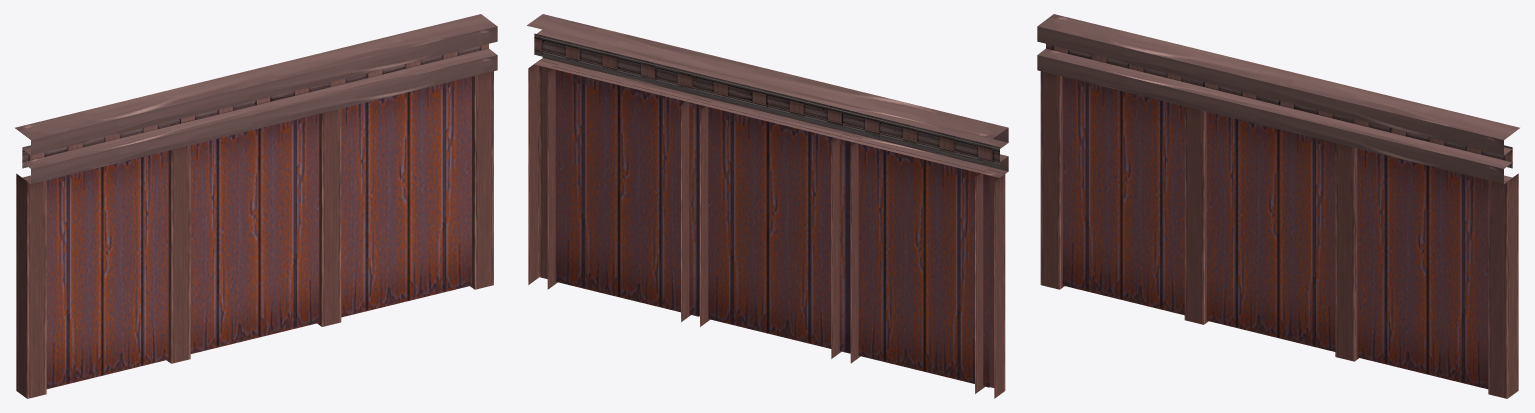
Rendered from mod_zlc_jianzhu057_xy.FBX.
3 renders of one model, left to right at view 1: azimuth 30°, elevation 25°; view 2: azimuth 150°, elevation 25°; view 3: azimuth 330°, elevation 25°, orthographic.
Visible parts, largest first — view 1: mod_zlc_jianzhu057_xy; view 2: mod_zlc_jianzhu057_xy; view 3: mod_zlc_jianzhu057_xy.
Boxes of the visible parts, bbox=[...] form: mod_zlc_jianzhu057_xy: bbox=[15, 14, 497, 398]; mod_zlc_jianzhu057_xy: bbox=[527, 14, 1008, 398]; mod_zlc_jianzhu057_xy: bbox=[1037, 14, 1519, 398].
Size of the model in its own units: 374 by 200 by 22.82.
Materials: 2 (2 with a texture image).
